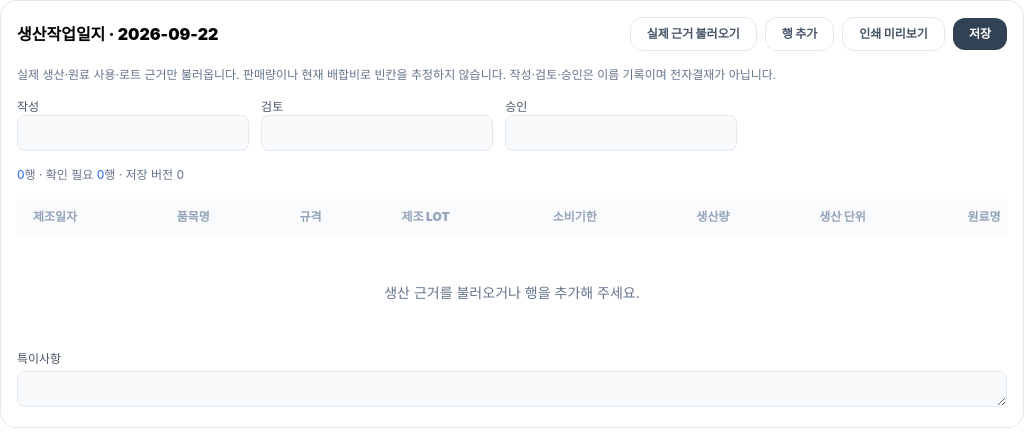
직원 생산작업일지 작성 › 직원도 수동 행·이름을 보완하고 문서 리비전과 함께 저장한다
The width and height of the screenshot is (1036, 446).
Click the button "행 추가": (800, 34) [765,17,834,51]
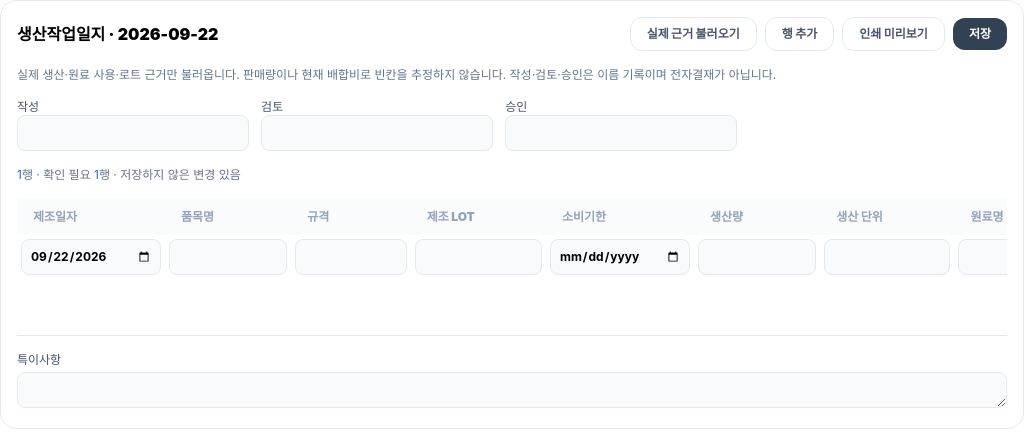
In the field named "1행 품목명": (228, 257) [169,239,287,275], type "수동 보완 품목"
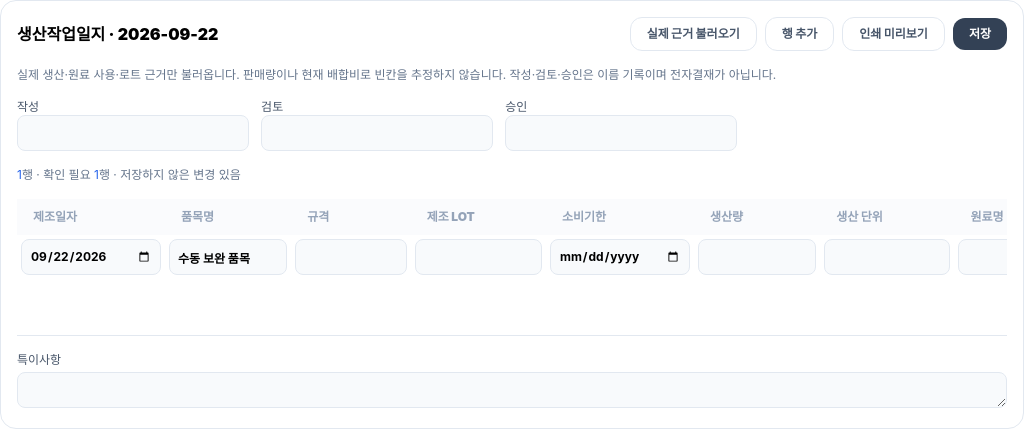
In the field named "작성 이름": (133, 133) [17,115,249,151], type "직원"
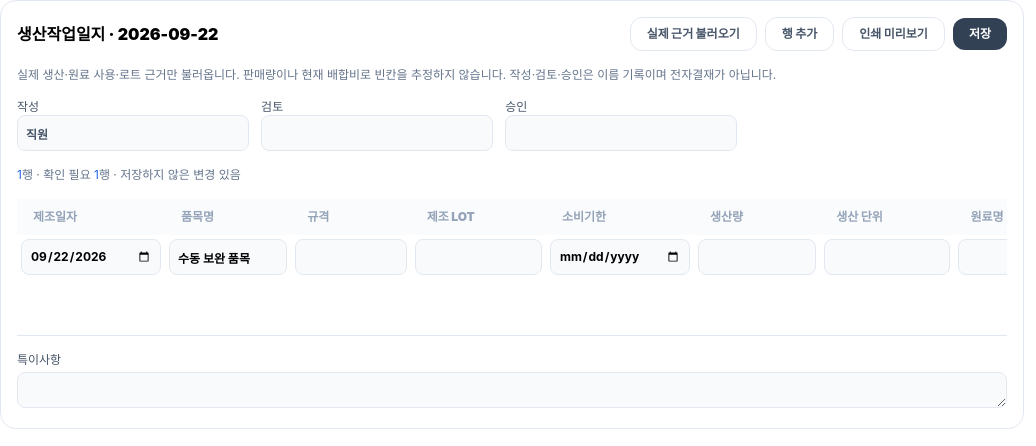
Click the button "저장": (980, 34) [953,18,1007,50]
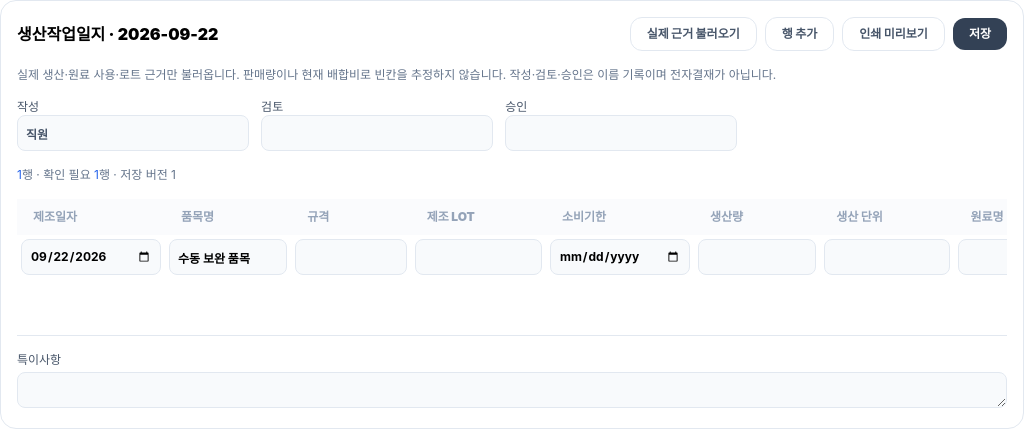
Now the message shows "저장 버전 1", box [120,167,176,182]
